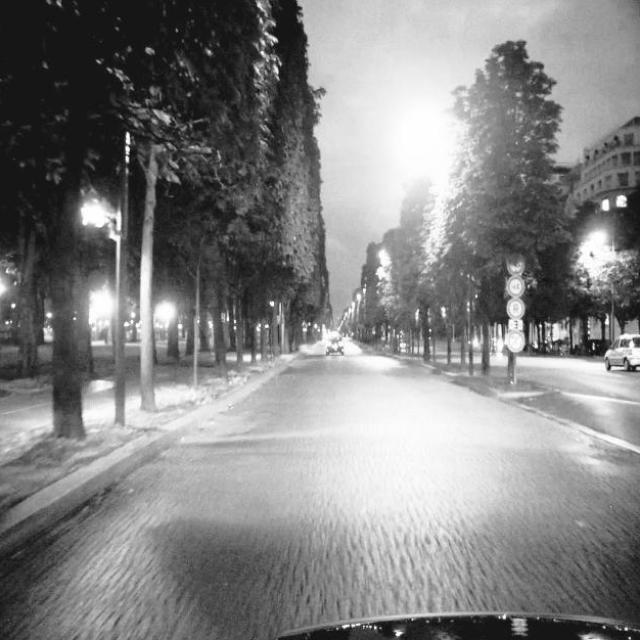Sign: (506, 252, 524, 354)
Tree: (38, 0, 100, 442), (135, 0, 183, 417)
